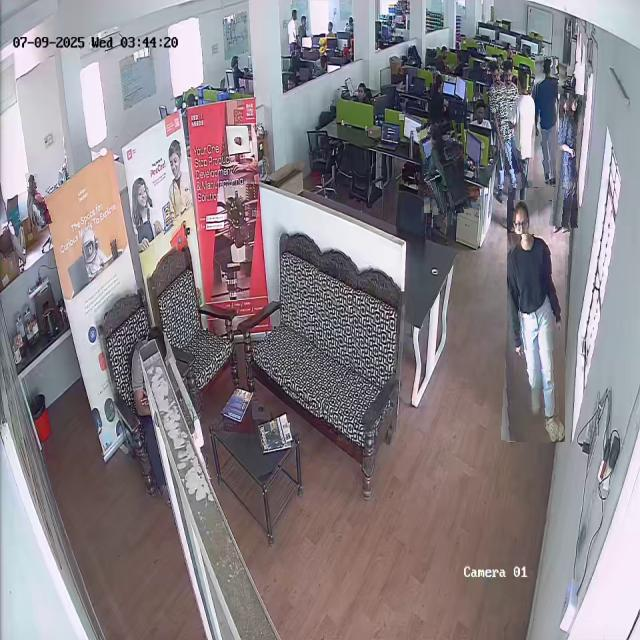person: (504, 200, 568, 442), (506, 70, 538, 234), (488, 60, 522, 192), (420, 122, 468, 214), (553, 94, 583, 228), (534, 56, 558, 187), (28, 171, 54, 225)
